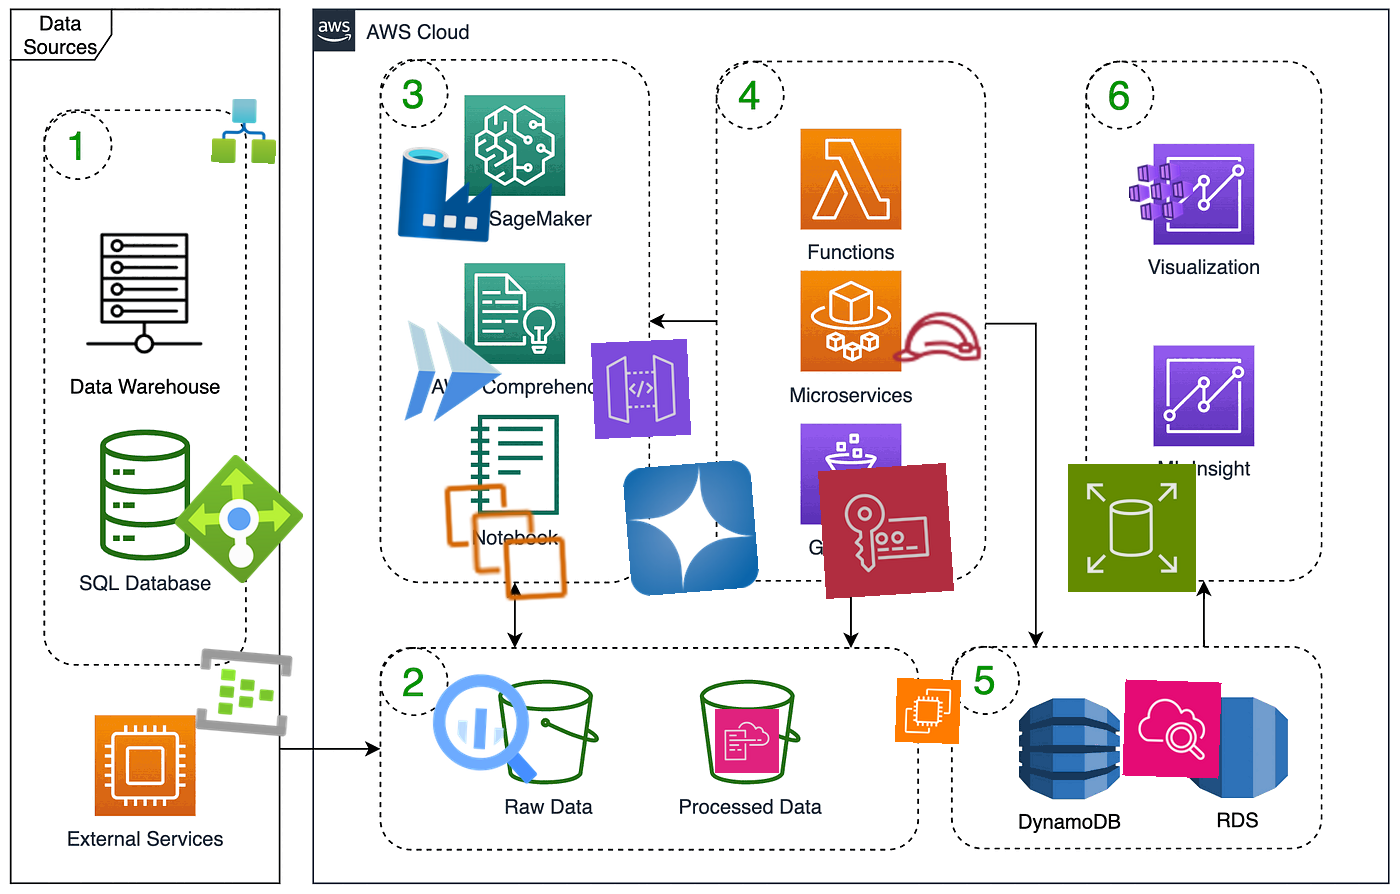aws_amazon_api_gateway: (590, 338, 692, 440)
aws_amazon_cloudwatch: (1122, 679, 1222, 779)
aws_amazon_ec2: (894, 677, 962, 745)
aws_amazon_elastic_block_store: (1067, 463, 1197, 593)
aws_cloudformation: (714, 708, 780, 774)
aws_ec2_instances: (438, 474, 574, 610)
aws_identity_access_management_role: (888, 289, 986, 387)
aws_key_management_service: (817, 462, 955, 600)
azure_data_factories: (394, 142, 498, 246)
azure_event_hubs: (192, 640, 296, 744)
azure_kubernetes_services: (1126, 156, 1196, 226)
azure_load_balancers: (171, 451, 307, 587)
azure_logic_apps: (211, 98, 277, 164)
azure_openai: (622, 459, 760, 597)
gcp_bigquery: (418, 660, 554, 796)
gcp_cloud_run: (385, 305, 519, 439)
